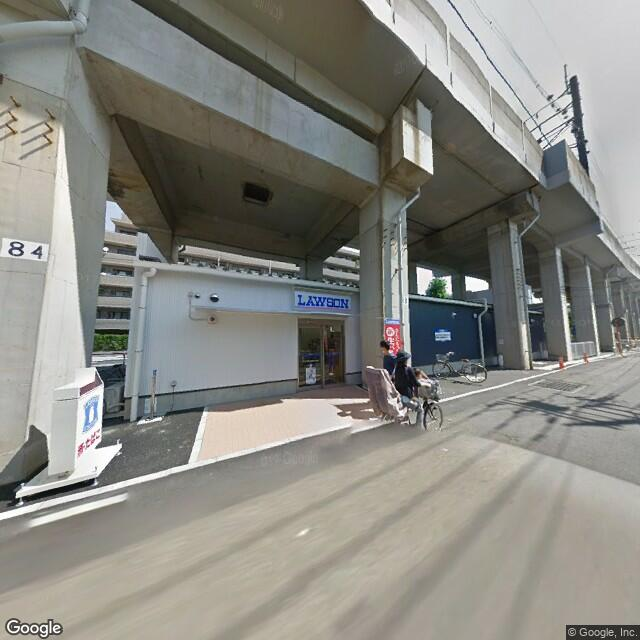lawson: (291, 288, 355, 317)
